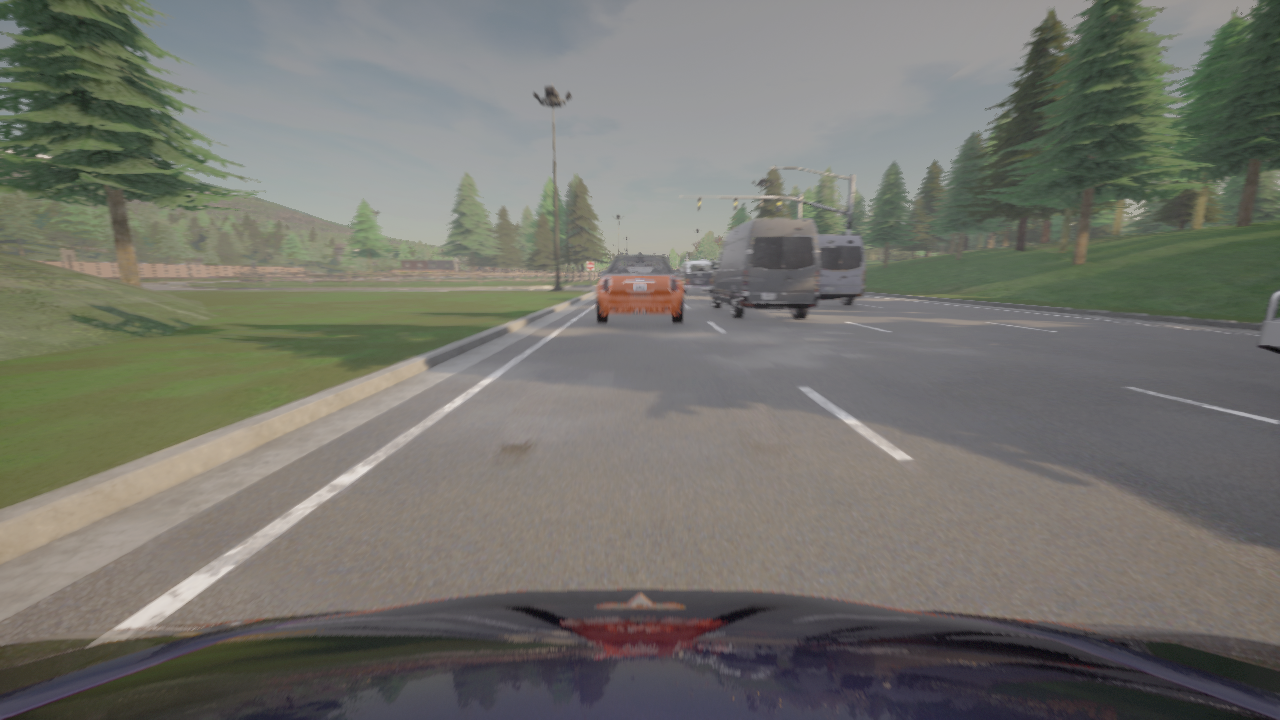cyclist: (0, 588, 1279, 719), (710, 219, 819, 318), (596, 253, 683, 323), (817, 235, 864, 305), (1257, 290, 1279, 352), (678, 260, 712, 293)
